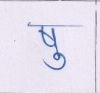u_matra: (41, 52, 69, 71)
